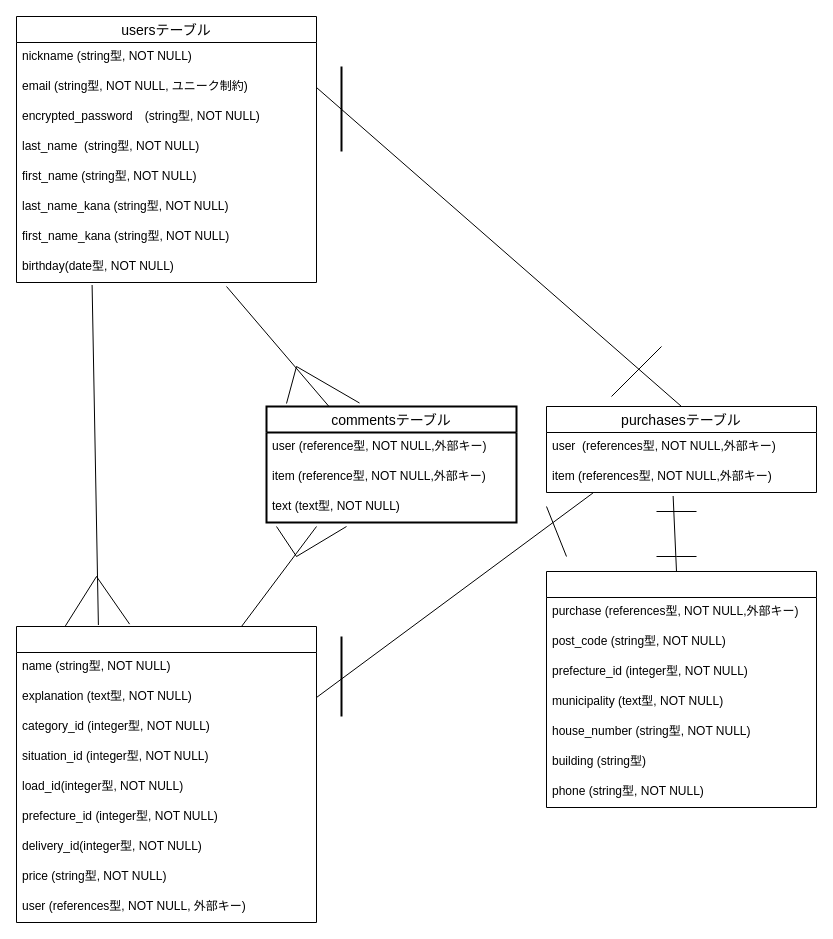
This 833x939 diagram has some shape labels left out. Here are the shapes that lost their labels. From the top down, the box of each, then its label:
(546, 570, 816, 808): addressesテーブル
(16, 626, 316, 922): itemsテーブル
